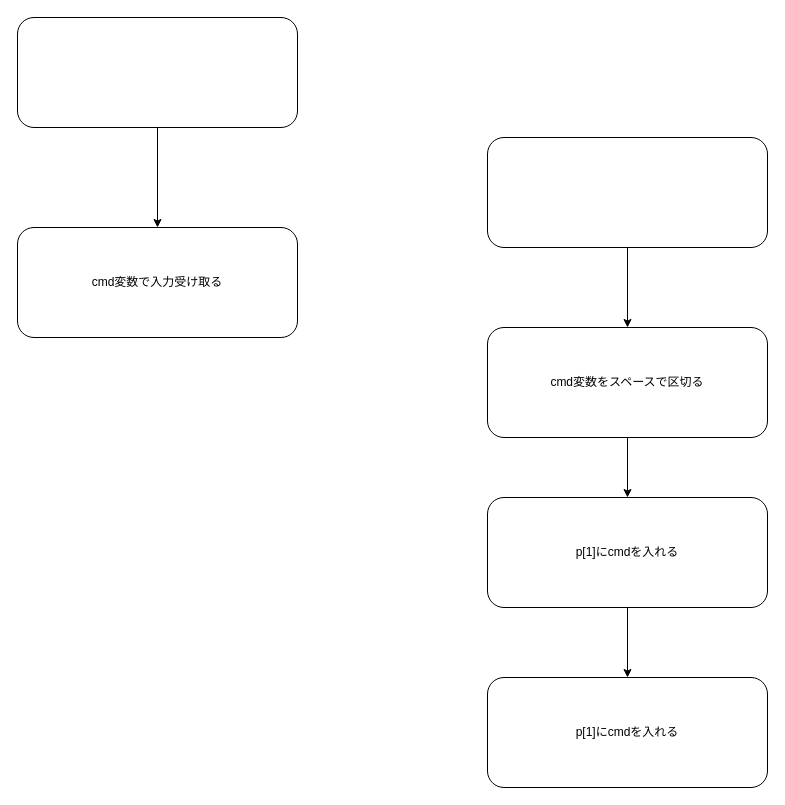
Image size: 785x805. Some labels were removed from this diagram. Each missing label, with the centre of its shape:
"$を出力" belongs at pixel 157 72.
"cmd変数に cmd 引数 で受け取る" belongs at pixel 627 192.
